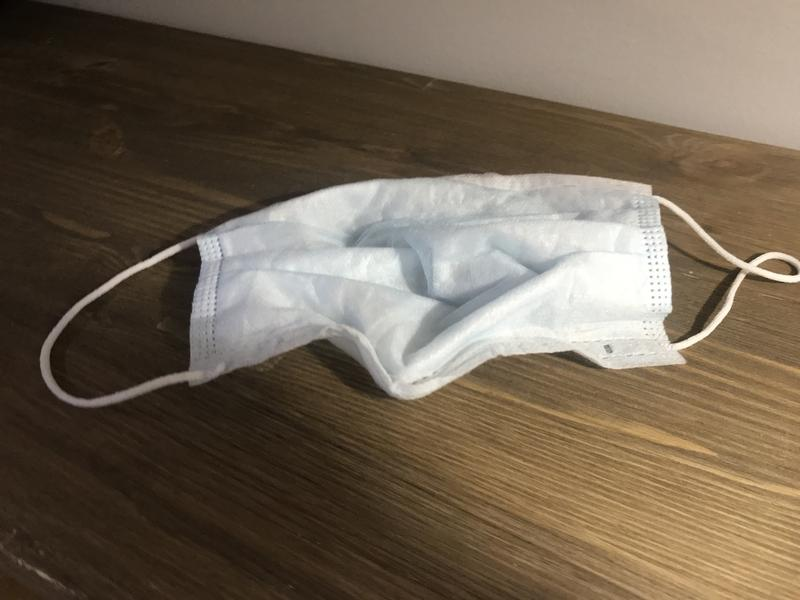medical_mask: (37, 174, 800, 406)
